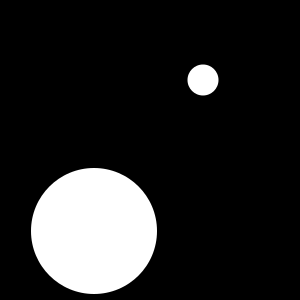rectangle: (31, 168, 157, 294), (188, 64, 218, 96)
